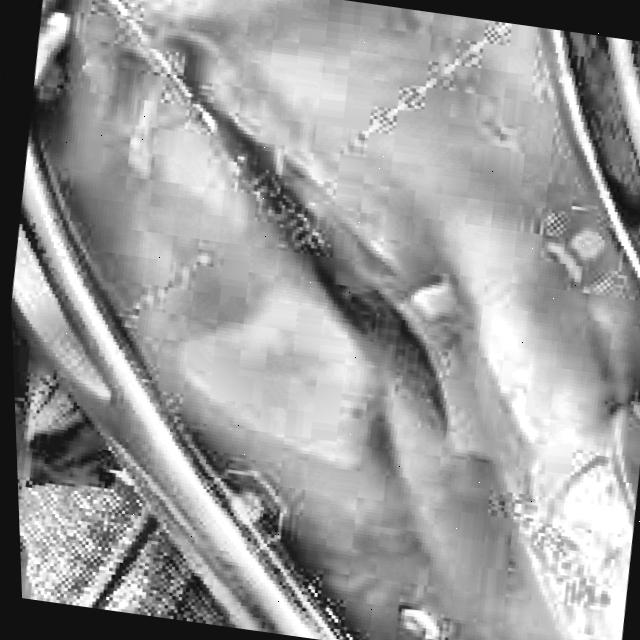bumper_dent: (148, 56, 434, 457)
